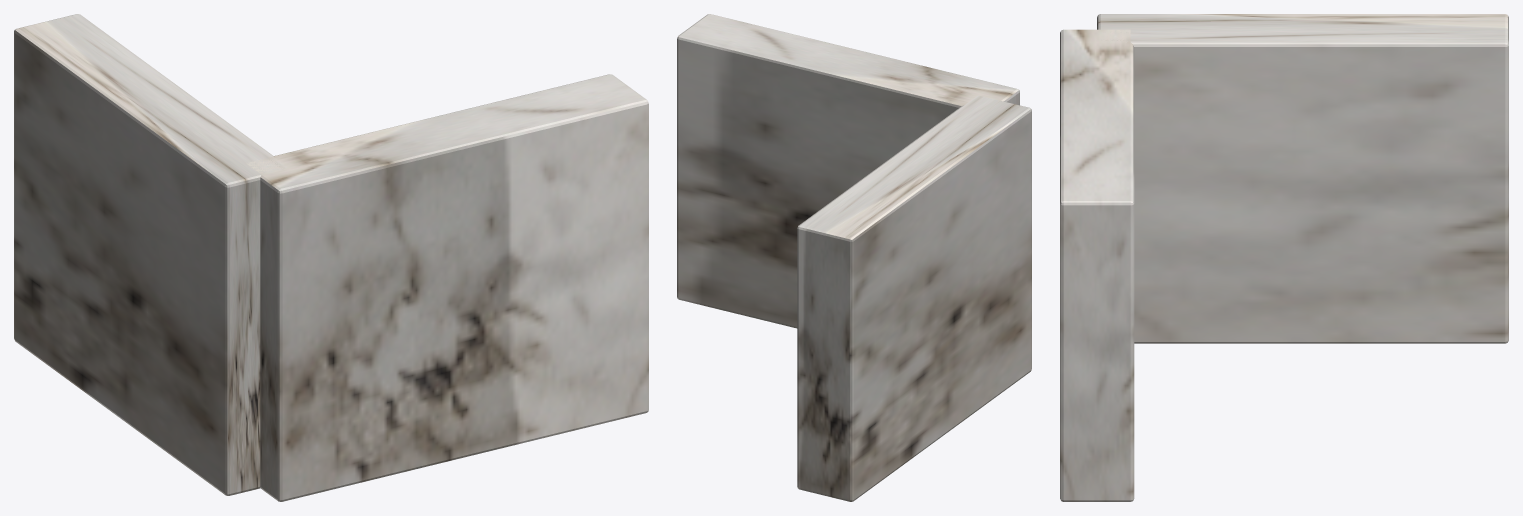
File: ruin_wallrun_corner_inner_LOD1.glb
The picture shows the model from 3 angles, left to right: view 1: azimuth 30°, elevation 25°; view 2: azimuth 150°, elevation 25°; view 3: azimuth 270°, elevation 25°; orthographic projection. The views are drawn at different scales.
Parts seen in each view (by area): view 1: LOD1_XWall, LOD1_YWall; view 2: LOD1_YWall, LOD1_XWall; view 3: LOD1_YWall, LOD1_XWall.
Part boxes in pixels (x1,y1,x2,y2): LOD1_XWall: (246, 74, 648, 501); LOD1_YWall: (14, 14, 287, 495); LOD1_YWall: (797, 95, 1031, 501); LOD1_XWall: (677, 14, 1019, 328); LOD1_YWall: (1097, 14, 1508, 343); LOD1_XWall: (1060, 29, 1134, 501).
Bounding box in the file's own units: 3.27 × 2.42 × 3.27.
1 material, 1 textured.
